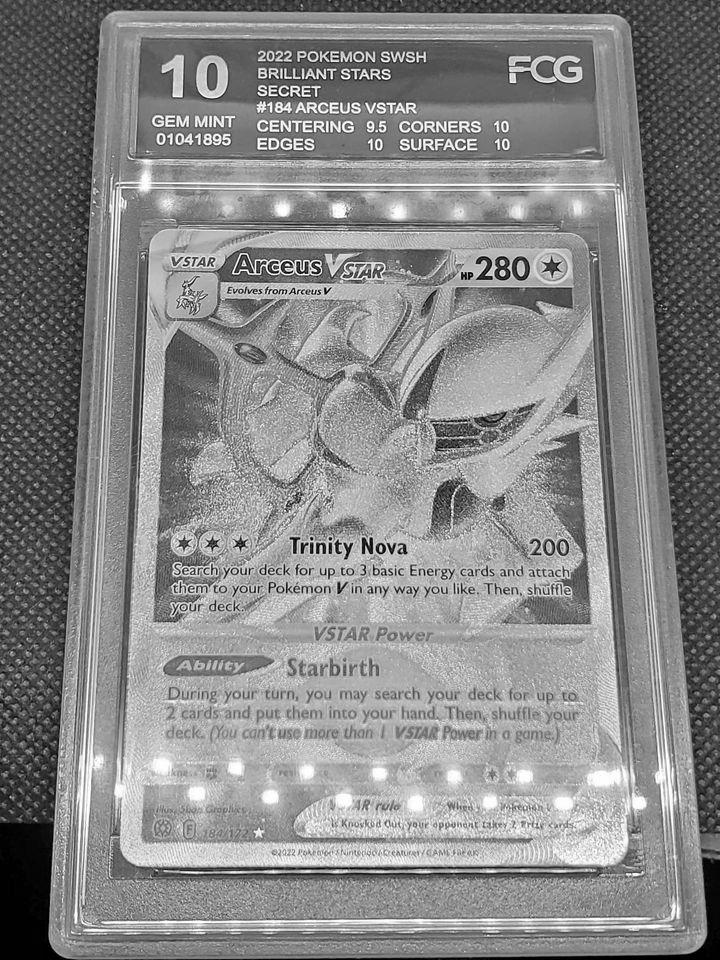card: (119, 228, 632, 869)
